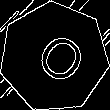O_SW: (22, 24, 86, 91)
